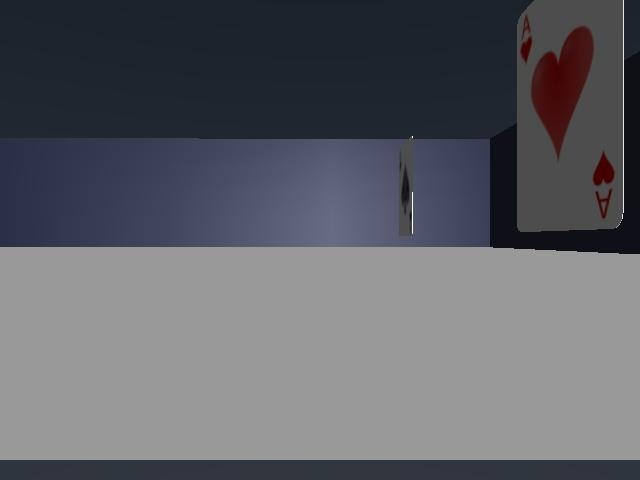heart: (517, 0, 623, 231)
spade: (399, 137, 412, 235)
